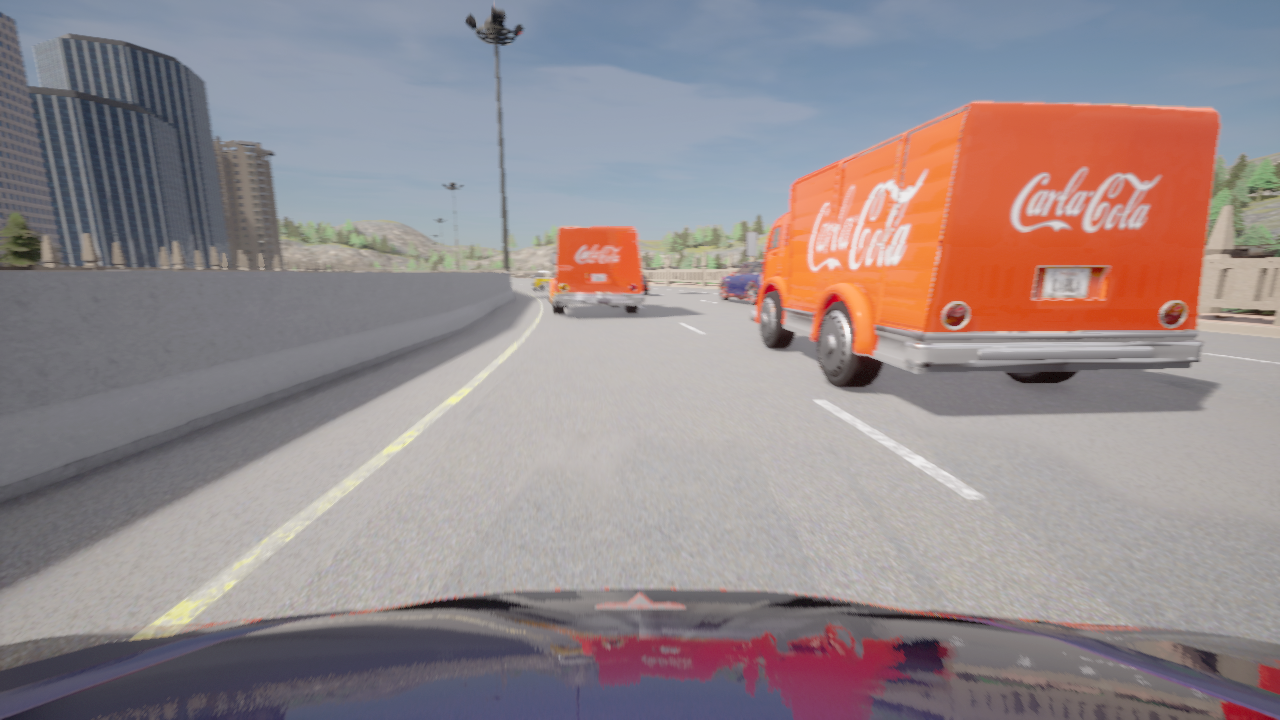cyclist: (0, 588, 1279, 719), (745, 101, 1220, 387), (549, 227, 644, 315), (718, 260, 763, 305), (532, 271, 553, 291), (640, 270, 648, 295)
